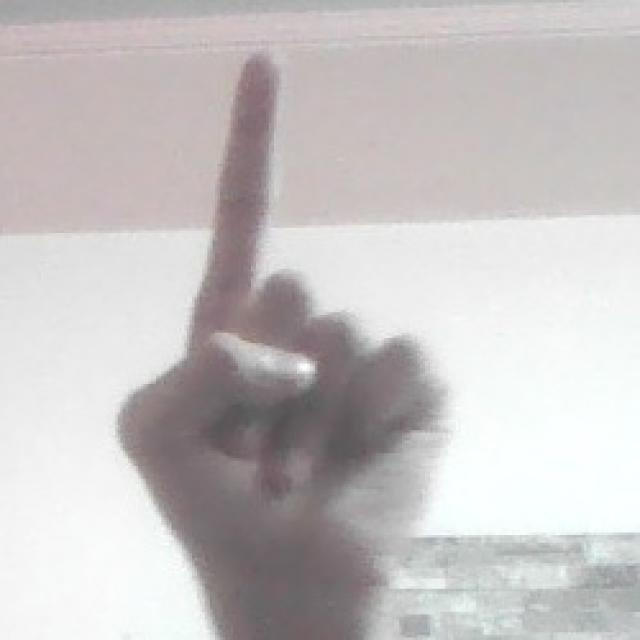Numeric-1: (123, 46, 442, 591)
